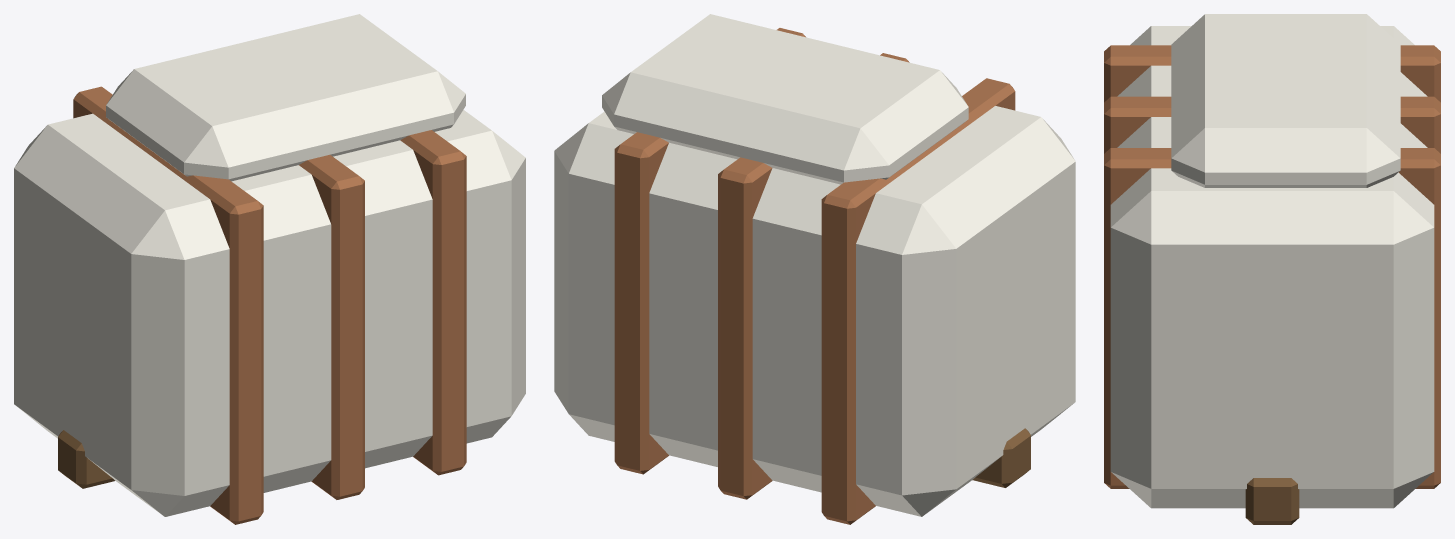
The model's file is cotton.glb.
3 renders of one model, left to right at view 1: azimuth 30°, elevation 25°; view 2: azimuth 150°, elevation 25°; view 3: azimuth 270°, elevation 25°, orthographic. The views are drawn at different scales.
Parts seen in each view (by area): view 1: cotton-bale, cotton-top-puff, cotton-strap-0, cotton-strap-2, cotton-strap-1, cotton-end-twine; view 2: cotton-bale, cotton-top-puff, cotton-strap-0, cotton-strap-2, cotton-strap-1, cotton-end-twine; view 3: cotton-bale, cotton-top-puff, cotton-strap-2, cotton-strap-1, cotton-strap-0, cotton-end-twine.
Part boxes in pixels (x1,y1,x2,y2): cotton-bale: (14, 110, 525, 516); cotton-top-puff: (106, 14, 465, 181); cotton-strap-0: (73, 86, 263, 524); cotton-strap-2: (400, 130, 466, 475); cotton-strap-1: (299, 154, 364, 499); cotton-end-twine: (58, 430, 114, 488); cotton-bale: (554, 106, 1075, 516); cotton-top-puff: (602, 14, 968, 184); cotton-strap-0: (821, 78, 1015, 524); cotton-strap-2: (614, 28, 805, 474); cotton-strap-1: (718, 53, 909, 499); cotton-end-twine: (972, 428, 1030, 487); cotton-bale: (1110, 26, 1434, 508); cotton-top-puff: (1171, 14, 1400, 187); cotton-strap-2: (1104, 148, 1440, 488); cotton-strap-1: (1104, 96, 1440, 153); cotton-strap-0: (1104, 45, 1440, 102); cotton-end-twine: (1245, 478, 1299, 524).
Bounding box in the file's own units: 1.18 × 1 × 0.8197.
